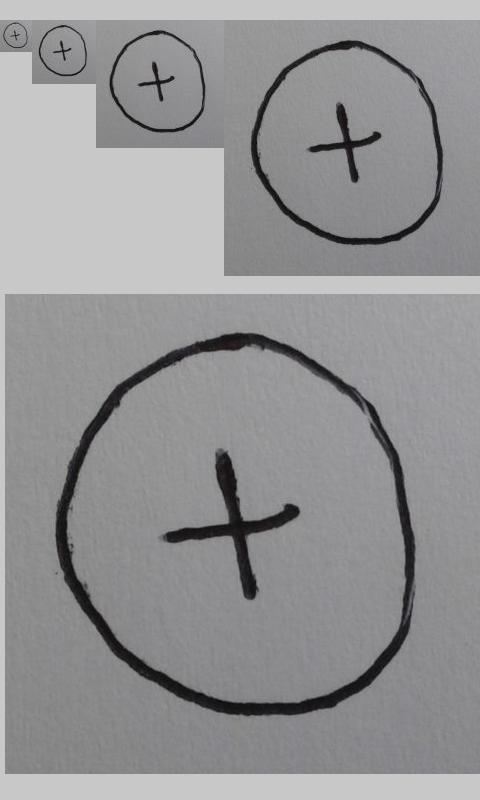button: (53, 330, 420, 722), (250, 38, 445, 248), (109, 29, 207, 134), (38, 24, 88, 77), (3, 22, 28, 49)
